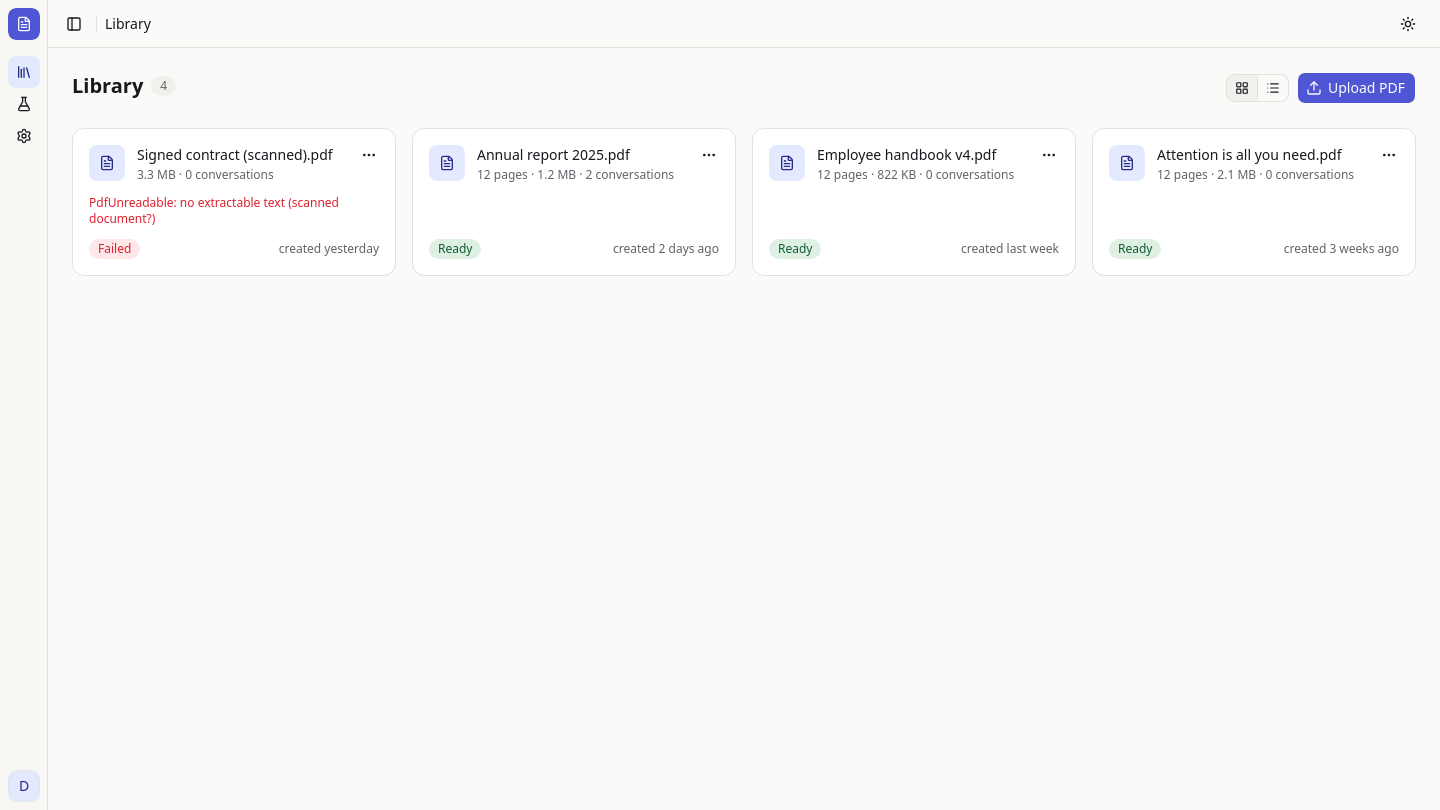
Test case: library › deletes a document after confirmation
The image size is (1440, 810).
Click the button named "Actions for Annual report 2025.pdf" at (709, 155), box [695,141,723,169]
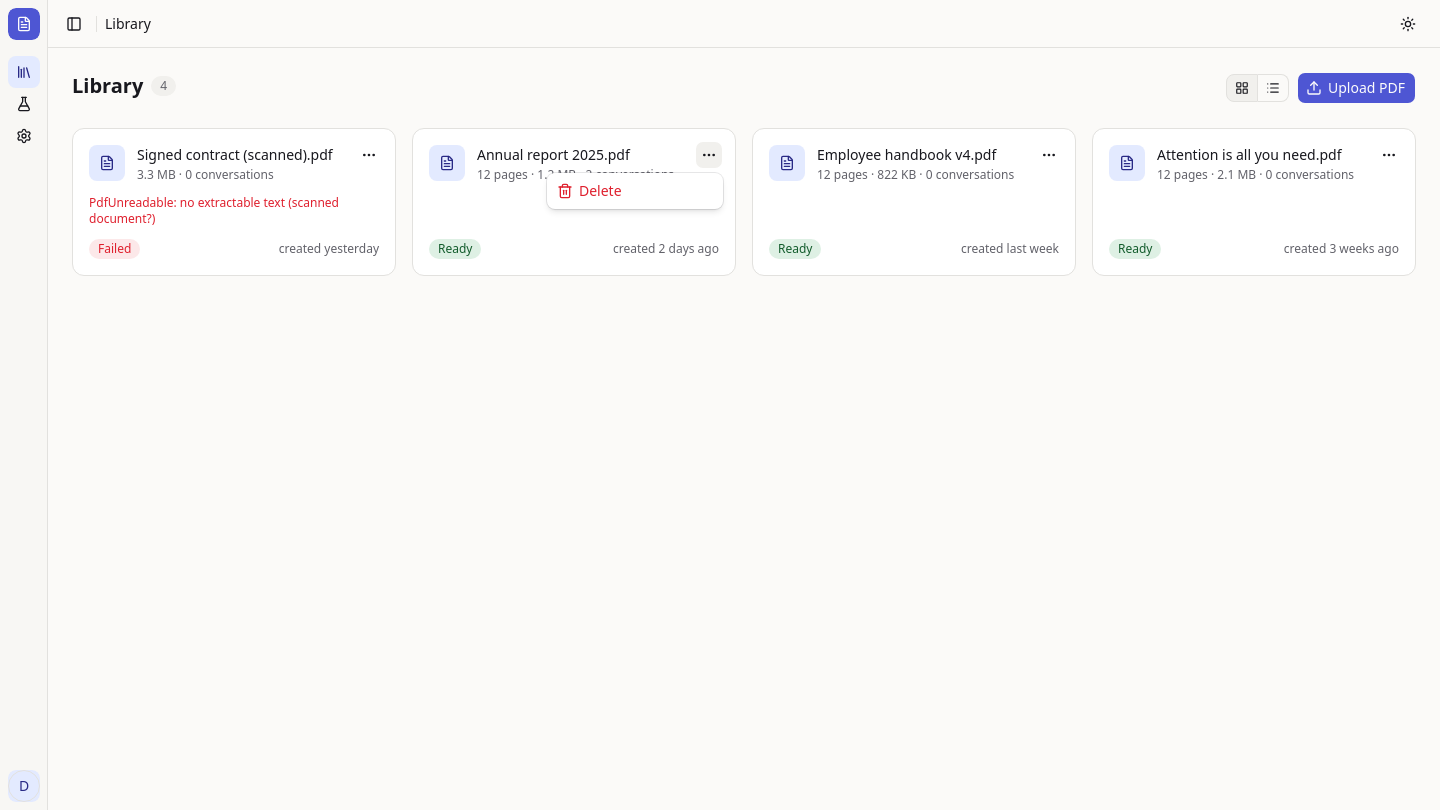
Click the menu item "Delete" at (589, 190), box [557,181,622,200]
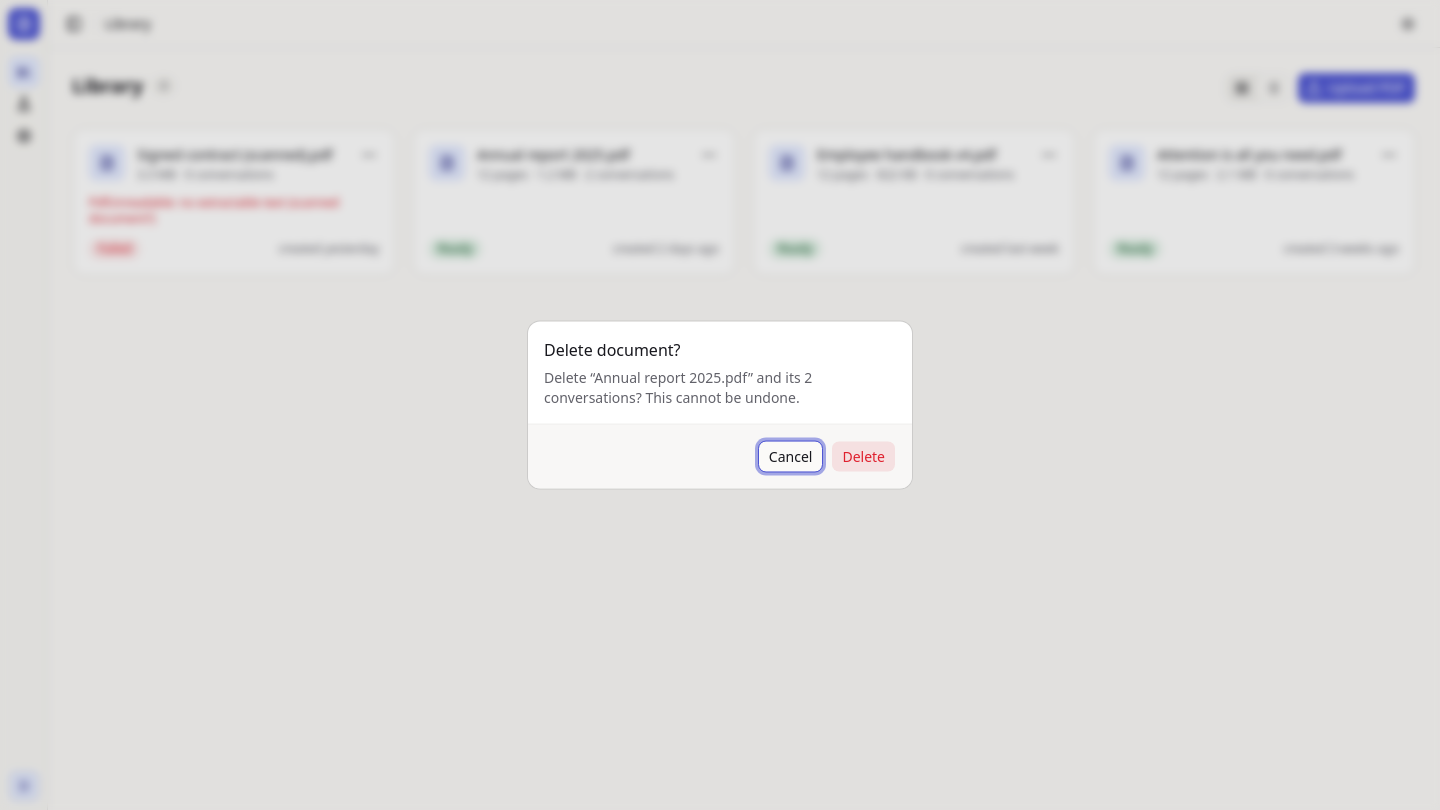
Now the dialog shows "Annual report 2025.pdf", box [594,368,748,386]
Click the button "Delete" at (864, 456), box [831,440,896,472]
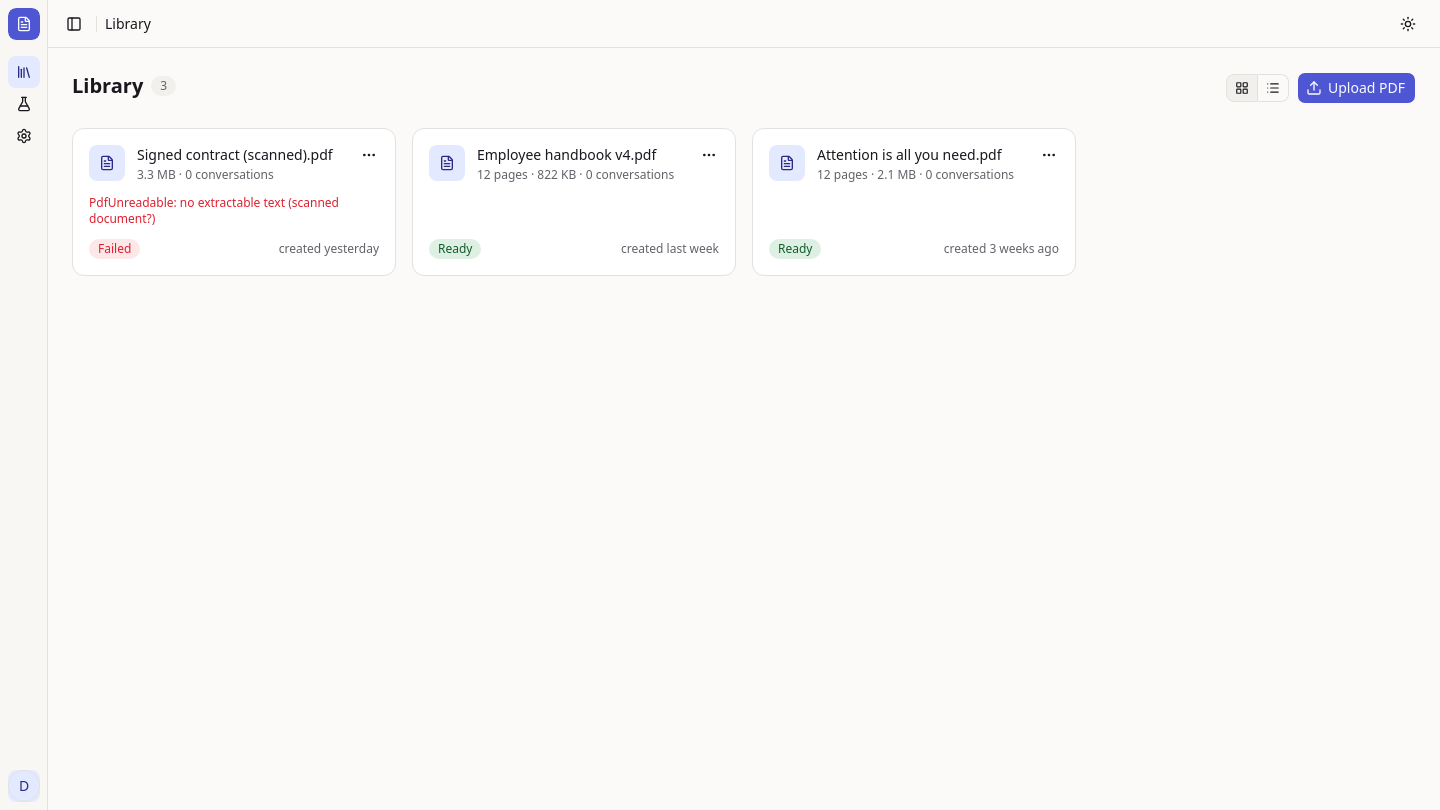
Now the link "Annual report 2025.pdf" is gone
